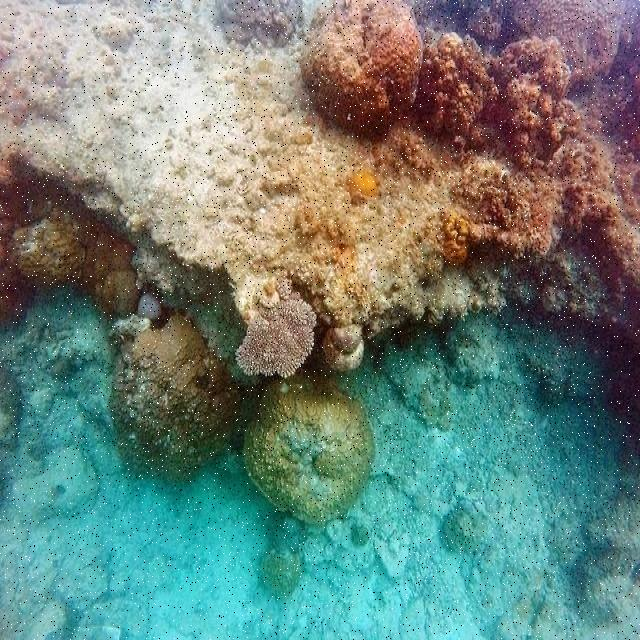reefs: (0, 0, 639, 377), (244, 376, 374, 524), (110, 392, 231, 489), (260, 551, 302, 599)
